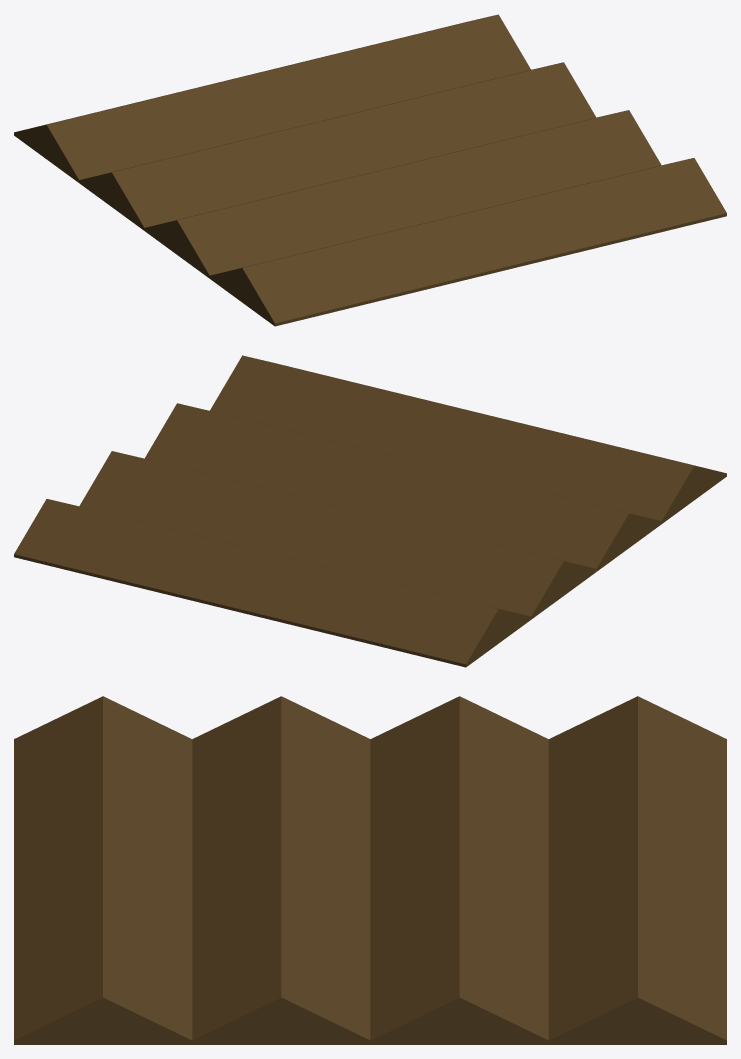
File: Mud1.fbx
3 views of the same model, one above another, from view 1: azimuth 30°, elevation 25°; view 2: azimuth 150°, elevation 25°; view 3: azimuth 270°, elevation 25° (orthographic). The views are drawn at different scales.
Visible parts, largest first — view 1: Mud1; view 2: Mud1; view 3: Mud1.
Part boxes in pixels (box(x1,y1,x2,y2)): Mud1: box(14, 14, 726, 326); Mud1: box(14, 355, 726, 667); Mud1: box(14, 696, 726, 1044).
Size of the model in its own units: 6 by 6 by 0.44.
